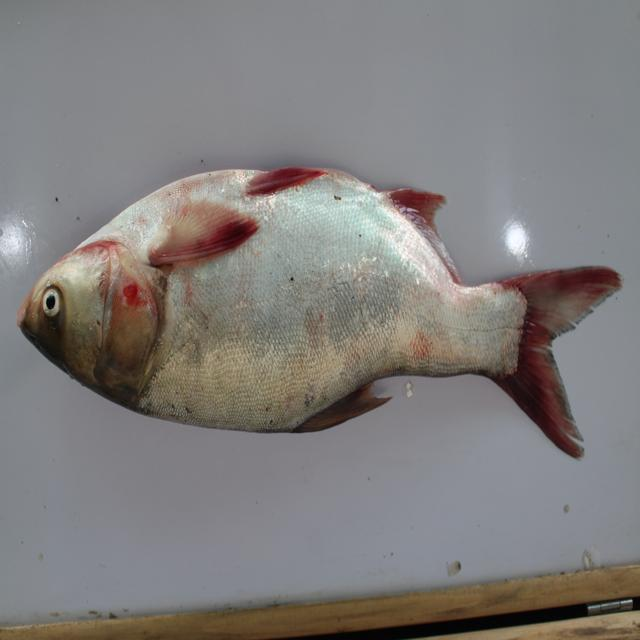SilverCarp: (21, 142, 616, 496)
